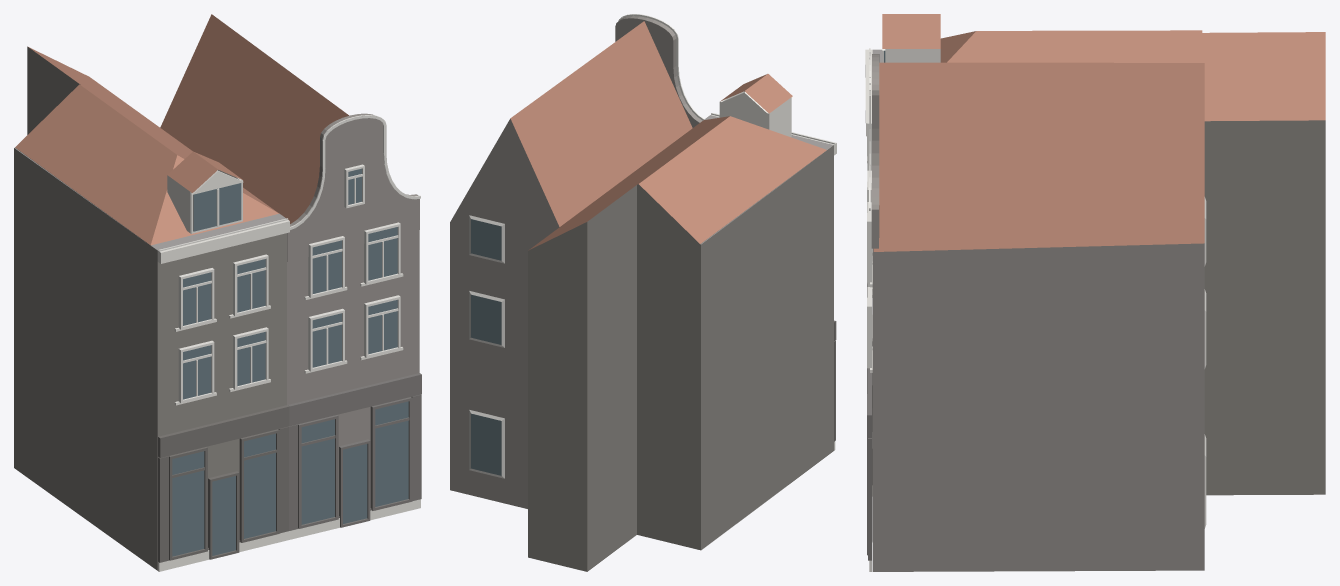
The model's file is chunk-face-haarlemmerdijk-2-58-r2.glb.
The picture shows the model from 3 angles, left to right: view 1: azimuth 30°, elevation 25°; view 2: azimuth 150°, elevation 25°; view 3: azimuth 270°, elevation 25°; orthographic projection. The views are drawn at different scales.
Visible parts, largest first — view 1: face-haarlemmerdijk-2-58-r2; view 2: face-haarlemmerdijk-2-58-r2; view 3: face-haarlemmerdijk-2-58-r2.
Boxes of the visible parts, <box> form: face-haarlemmerdijk-2-58-r2: <box>14,14,421,571</box>; face-haarlemmerdijk-2-58-r2: <box>450,14,836,571</box>; face-haarlemmerdijk-2-58-r2: <box>865,14,1325,571</box>.
Size of the model in its own units: 8.64 by 12.73 by 11.19.
